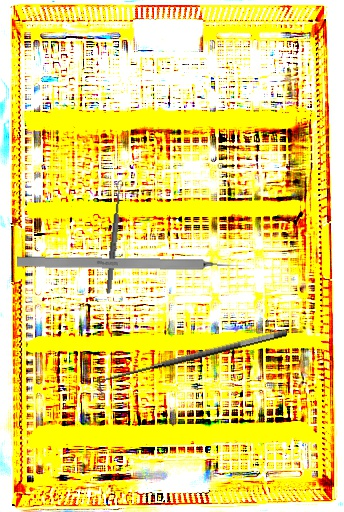Hook Surgical: (93, 326, 292, 399), (16, 256, 246, 271)
Surgical Spoon: (105, 179, 124, 295)
